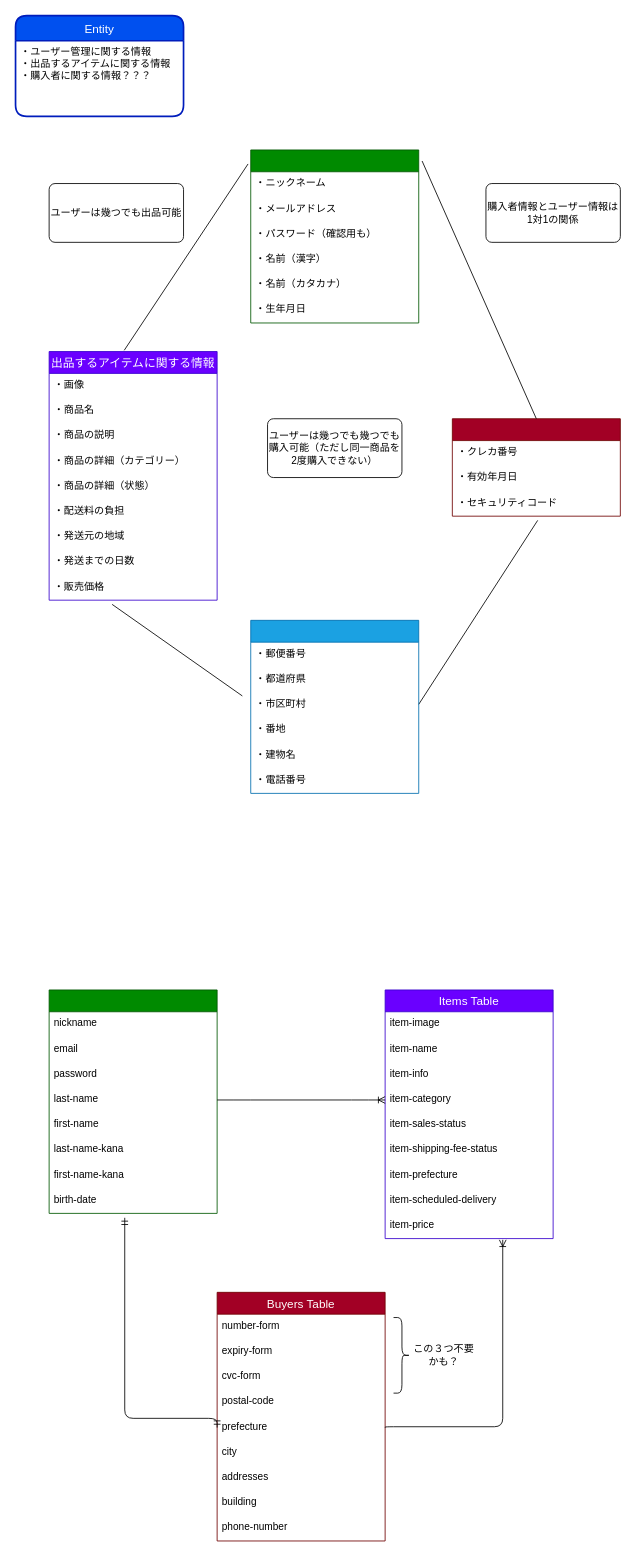
This 635x1557 diagram has some shape labels left out. The box of each missing label's shape, as (x1, y1, x2, y2) in pixels:
Users Table: (48, 989, 217, 1213)
ユーザー管理に関する情報: (250, 149, 419, 323)
住所情報に関する情報: (250, 620, 419, 793)
購入記録に関する情報: (452, 418, 620, 516)
